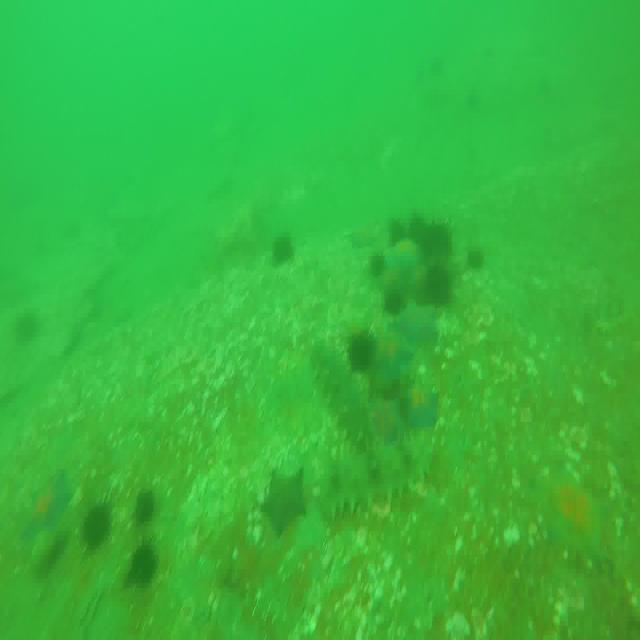echinus: (425, 269, 456, 308), (129, 543, 159, 583), (81, 506, 113, 542), (427, 223, 458, 253), (347, 332, 375, 365), (383, 284, 408, 317), (16, 306, 37, 345), (405, 212, 429, 246), (133, 485, 158, 515), (464, 245, 488, 269), (385, 217, 405, 243), (272, 236, 291, 262), (368, 249, 387, 273)
holothurian: (320, 442, 431, 516), (309, 340, 374, 453)
starfish: (538, 457, 611, 559), (20, 469, 76, 544), (260, 464, 306, 540), (367, 339, 418, 394), (384, 242, 432, 294), (403, 385, 444, 430), (398, 306, 443, 346)
